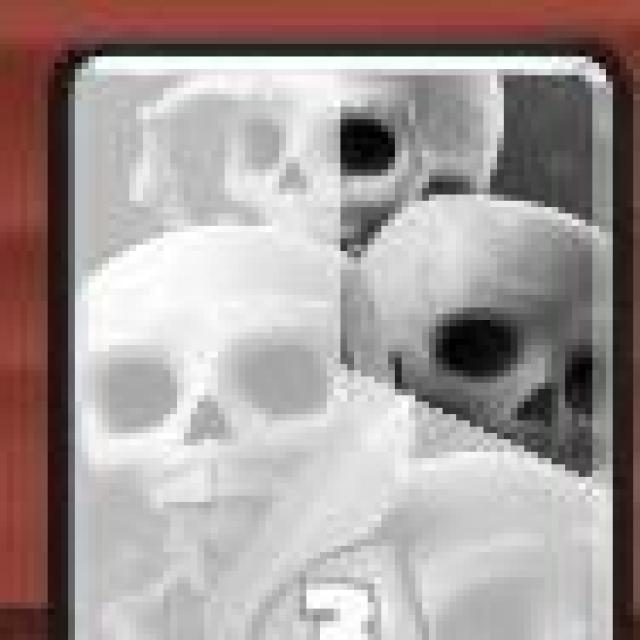Skeleton_Army: (47, 42, 623, 640)
